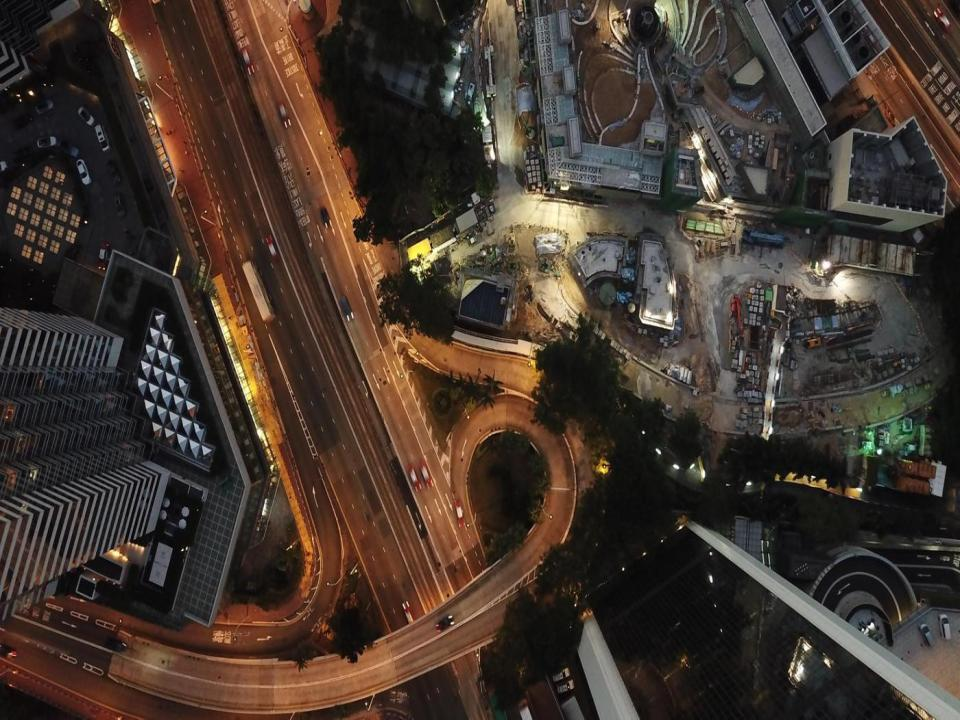bus: (242, 260, 275, 322), (516, 699, 533, 719)
car: (933, 6, 951, 30), (402, 600, 415, 630), (76, 159, 90, 185), (13, 112, 34, 129), (106, 636, 128, 652), (241, 48, 254, 75), (408, 465, 421, 491), (278, 102, 291, 128), (107, 160, 121, 184), (264, 234, 278, 258), (420, 464, 433, 489), (341, 295, 353, 321), (78, 107, 94, 126), (436, 615, 454, 631), (59, 141, 78, 156), (0, 643, 16, 660), (98, 243, 108, 270), (454, 500, 464, 527), (14, 148, 36, 160), (37, 137, 56, 146)
van: (96, 124, 110, 152), (919, 623, 935, 647), (938, 613, 950, 641), (113, 193, 126, 218), (320, 206, 332, 228), (36, 100, 54, 114), (553, 667, 570, 681), (556, 679, 574, 692)
